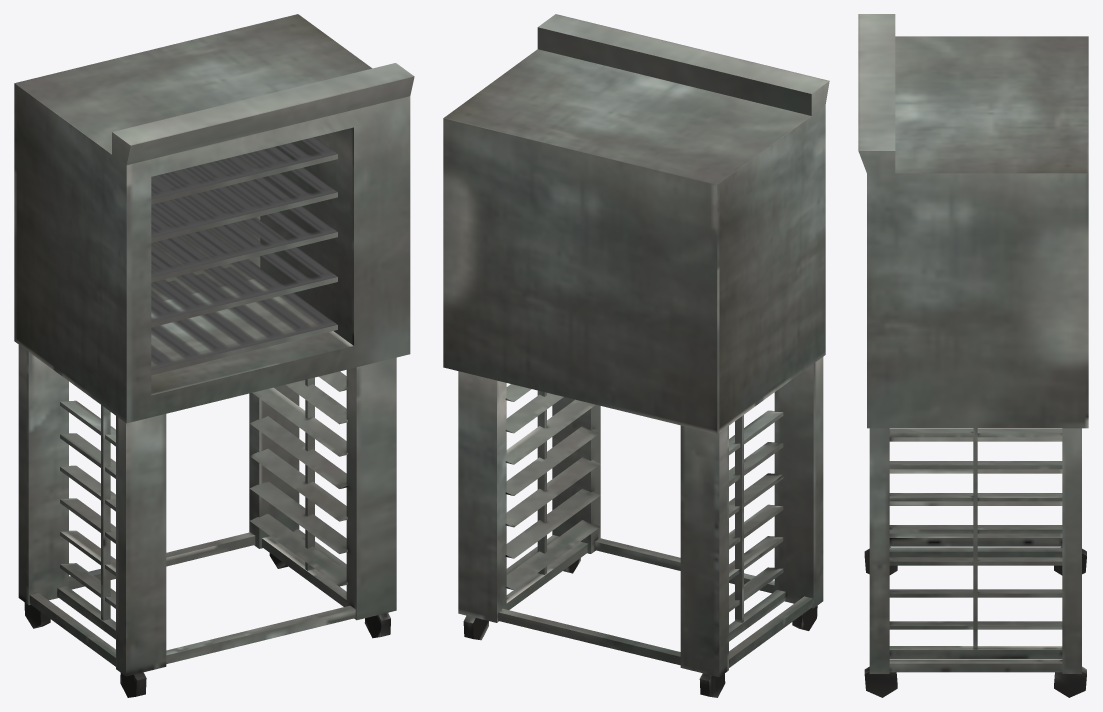
Rendered from Oven.glb.
3 renders of one model, left to right at view 1: azimuth 30°, elevation 25°; view 2: azimuth 150°, elevation 25°; view 3: azimuth 270°, elevation 25°, orthographic. The views are drawn at different scales.
Visible parts, largest first — view 1: Oven; view 2: Oven; view 3: Oven.
Part boxes in pixels (x1,y1,x2,y2): Oven: [14, 14, 414, 697]; Oven: [443, 14, 829, 697]; Oven: [858, 14, 1088, 697].
Bounding box in the file's own units: 1.29 × 2.45 × 0.9193.
1 material, 1 textured.
